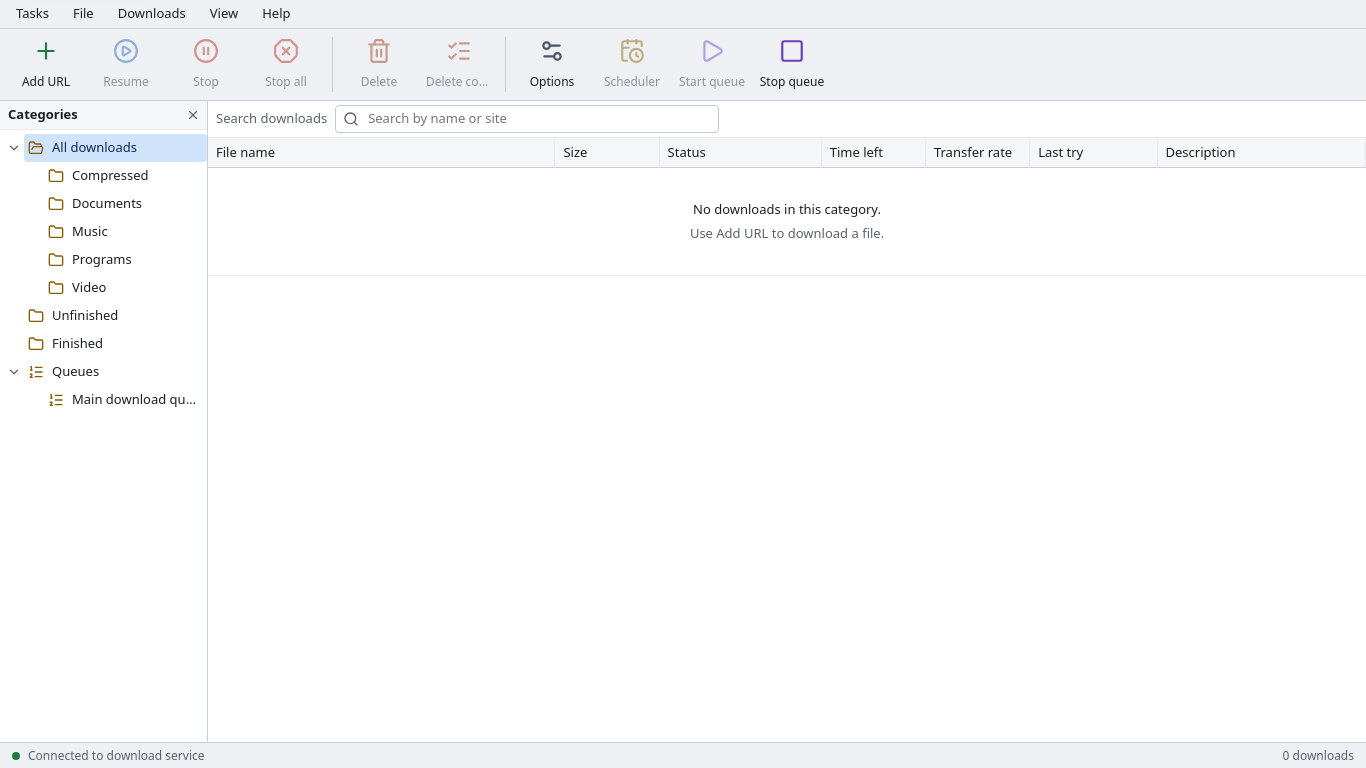
Test case: close behaviour › says when there is no tray and when saving failed
Click the button "Options" at (552, 64), box [514,33,590,96]
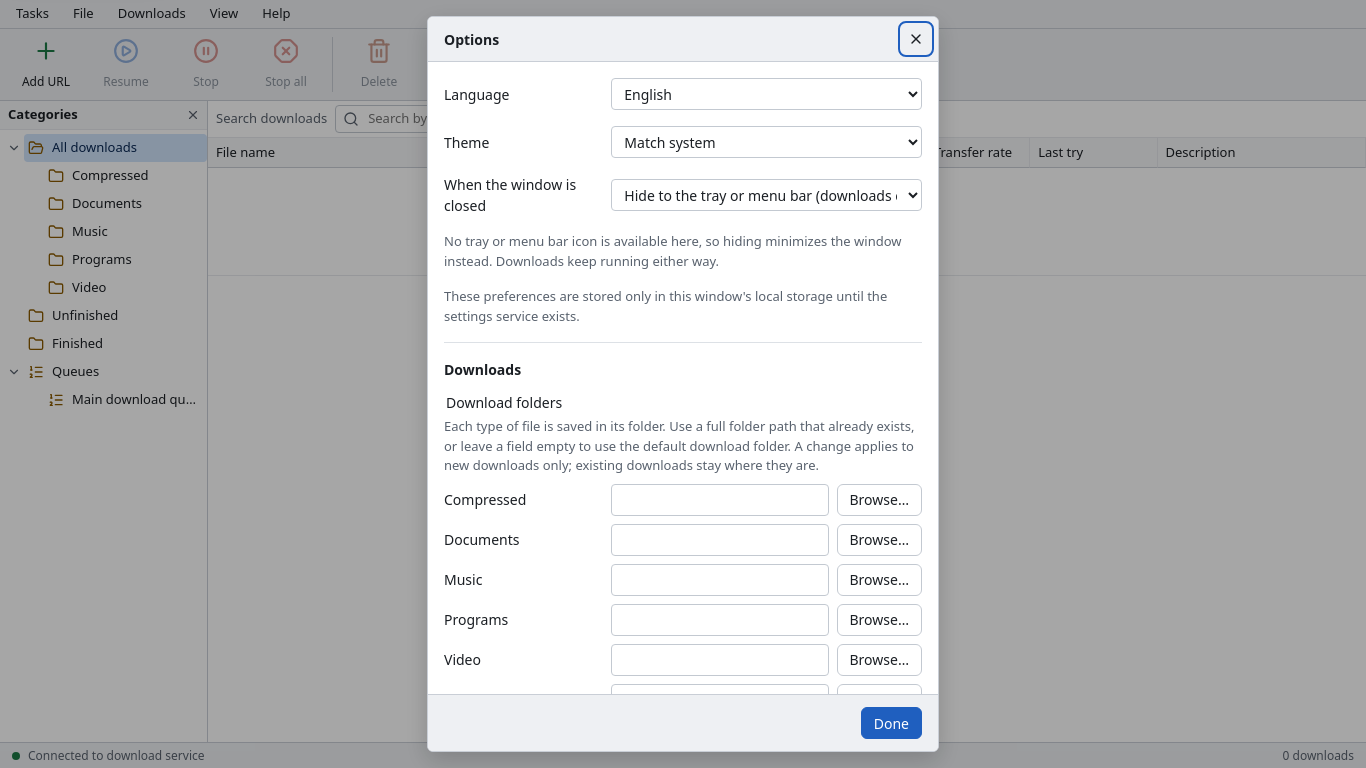
Select "Close the window (downloads continue)" in the dropdown labelled "When the window is closed" at (767, 195), box [611,179,922,211]
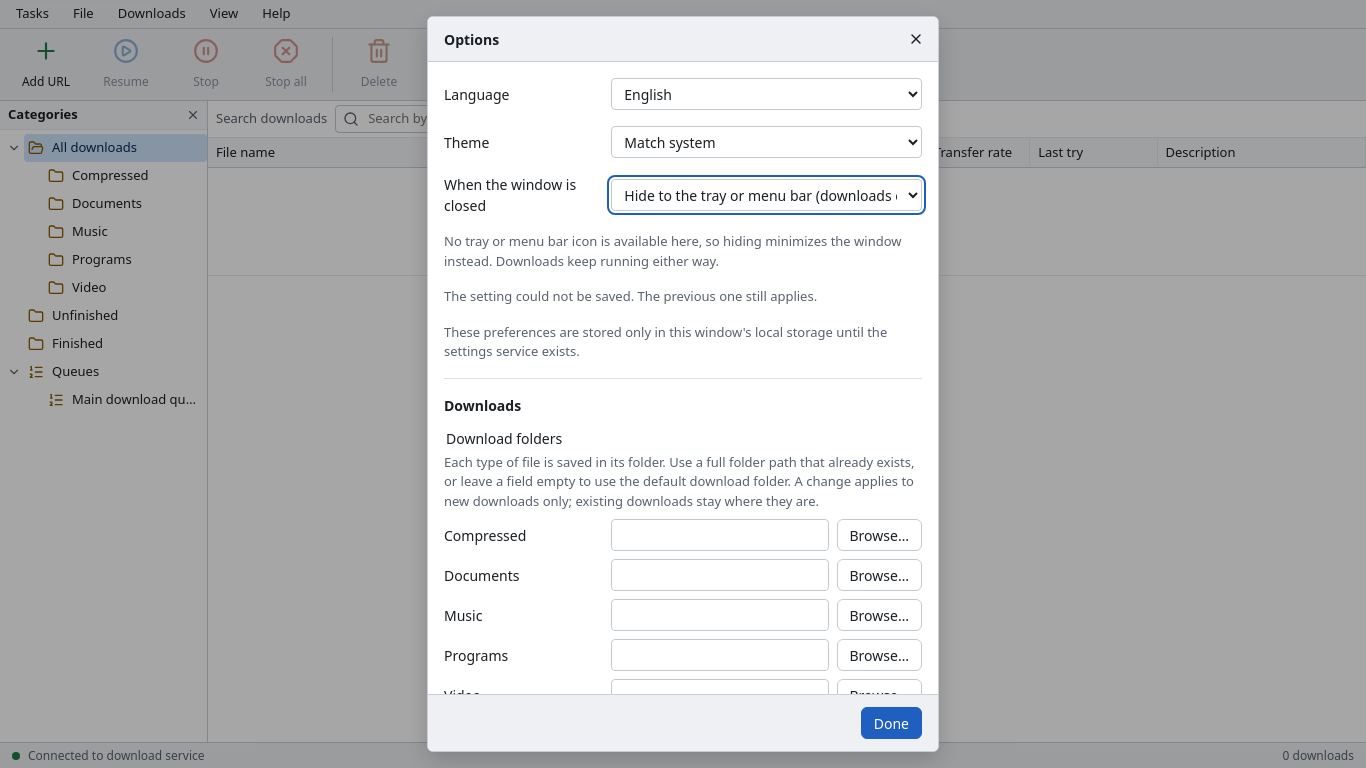
Result: the message shows "could not be saved" at [444,287,817,305]
